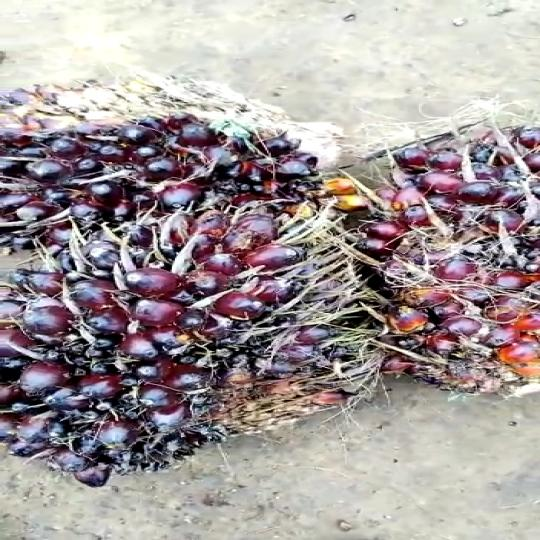kurang masak: (0, 210, 350, 505), (332, 109, 540, 429), (0, 66, 344, 250)
